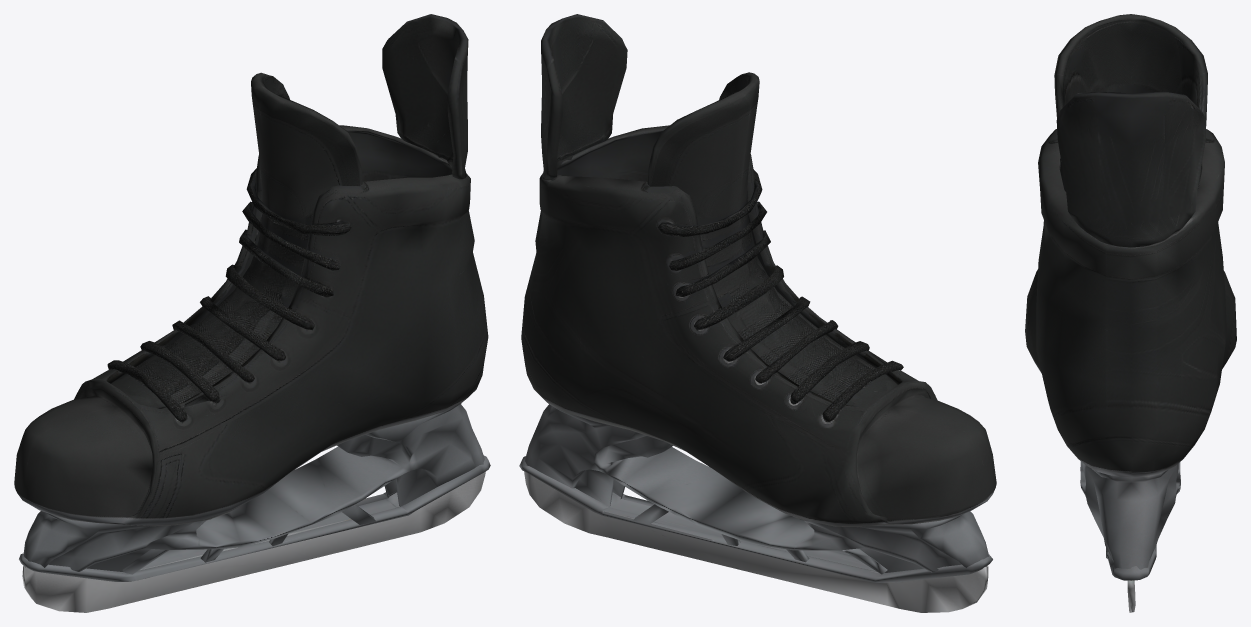
The model's file is Meshy_AI_Single_professional_i_0902012255_texture.fbx.
The picture shows the model from 3 angles, left to right: view 1: azimuth 30°, elevation 25°; view 2: azimuth 150°, elevation 25°; view 3: azimuth 270°, elevation 25°; orthographic projection. The views are drawn at different scales.
Parts seen in each view (by area): view 1: mesh_node; view 2: mesh_node; view 3: mesh_node.
Part boxes in pixels (left/top/right/bottom): mesh_node: left=14, top=14, right=490, bottom=612; mesh_node: left=519, top=14, right=996, bottom=612; mesh_node: left=1025, top=14, right=1236, bottom=612.
Bounding box in the file's own units: 97.85 × 100 × 36.62.
Materials: 1 (1 with a texture image).
